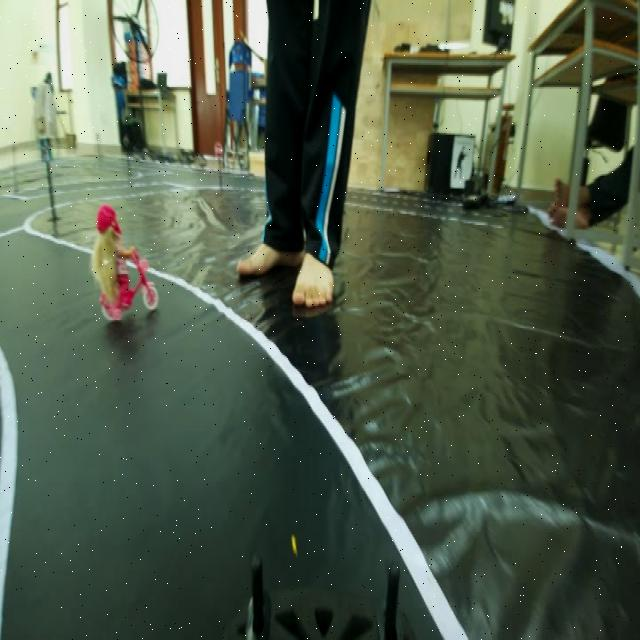pedestrian: (80, 206, 162, 320)
